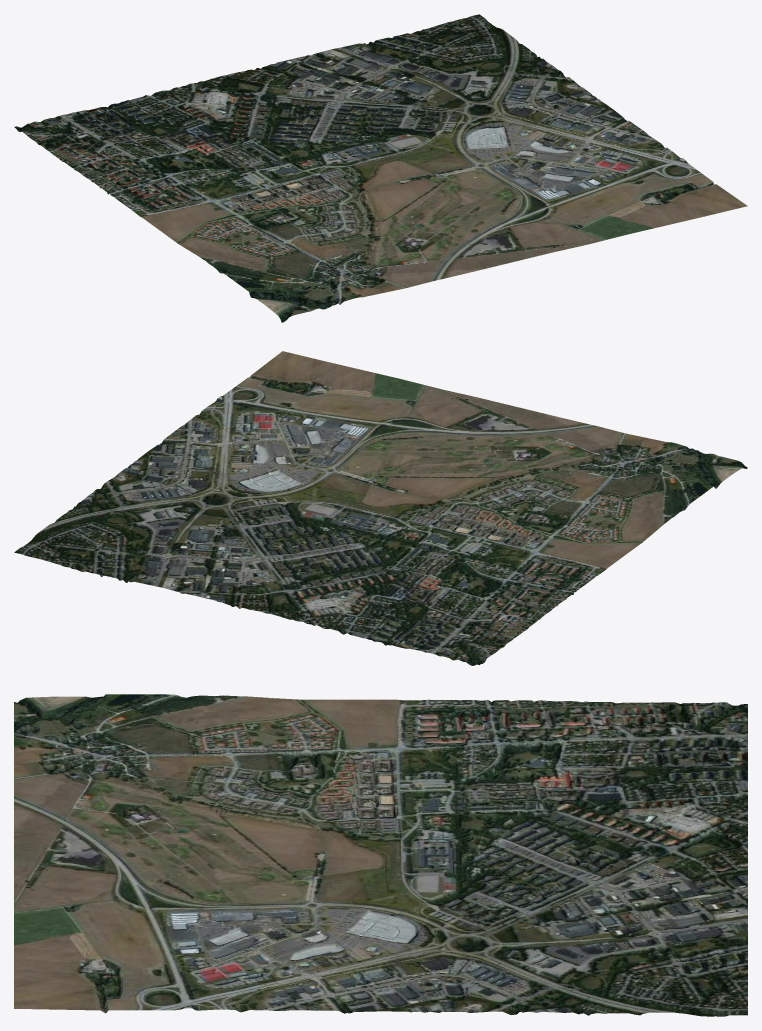
File: map_10_256_430.dae
3 views of the same model, one above another, from view 1: azimuth 30°, elevation 25°; view 2: azimuth 150°, elevation 25°; view 3: azimuth 270°, elevation 25° (orthographic). The views are drawn at different scales.
Visible parts, largest first — view 1: Ter0; view 2: Ter0; view 3: Ter0.
Part boxes in pixels (x1,y1,x2,y2): Ter0: (14,14,747,322); Ter0: (14,351,747,665); Ter0: (14,694,747,1016).
Size of the model in its own units: 2044 by 2044 by 53.25.
Materials: 3 (3 with a texture image).
